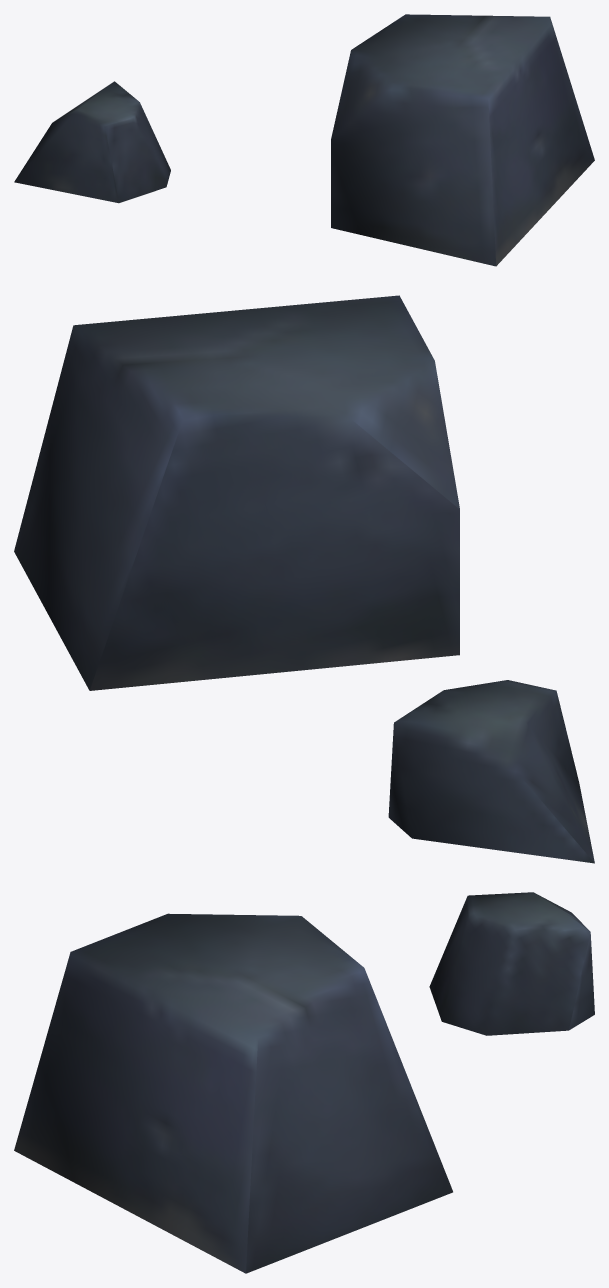
File: Area_04_41.fbx
3 views of the same model, one above another, from view 1: azimuth 30°, elevation 25°; view 2: azimuth 150°, elevation 25°; view 3: azimuth 270°, elevation 25° (orthographic). The views are drawn at different scales.
Parts seen in each view (by area): view 1: Area_04_41; view 2: Area_04_41; view 3: Area_04_41.
Boxes of the visible parts, x1,y1,x2,y2 form: Area_04_41: [14, 14, 594, 266]; Area_04_41: [14, 295, 594, 863]; Area_04_41: [14, 892, 594, 1273].
Bounding box in the file's own units: 1156 × 356 × 904.
